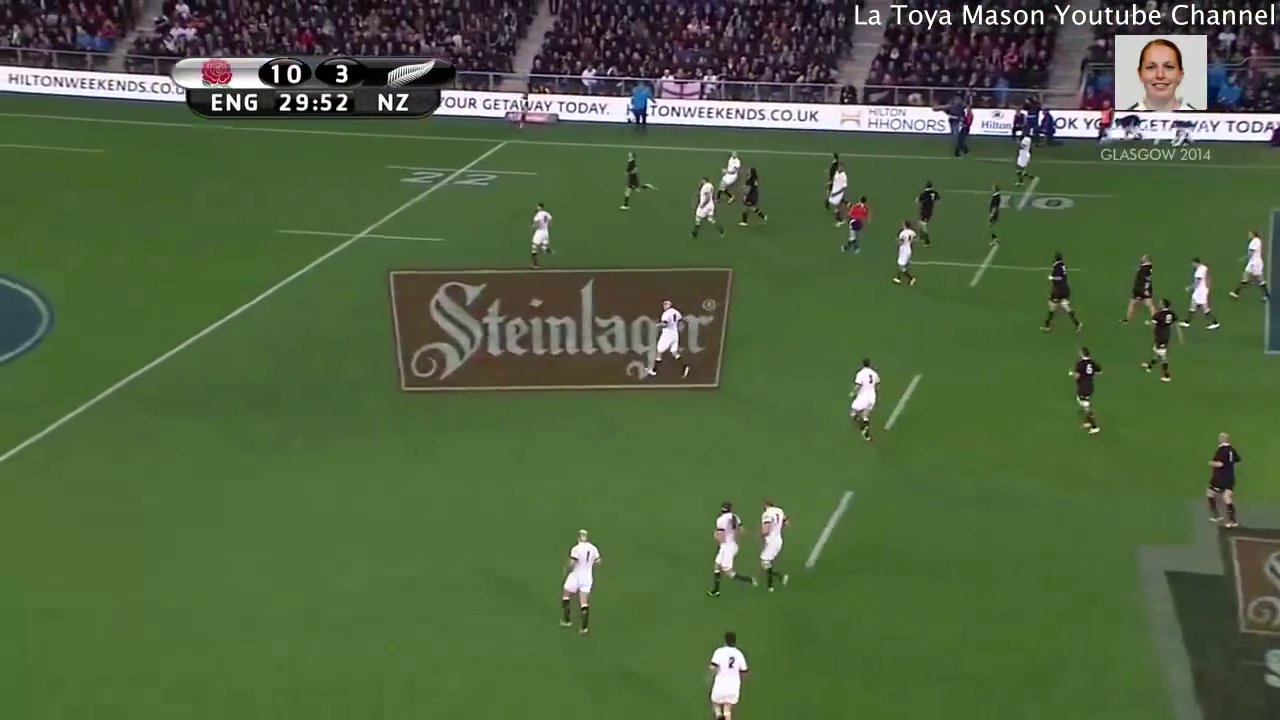10_metre: (894, 234, 1093, 298), (925, 173, 1123, 216)
player: (553, 520, 604, 644), (705, 496, 761, 606), (637, 288, 698, 386), (1196, 429, 1247, 534), (1169, 254, 1229, 342), (1061, 341, 1109, 449), (698, 626, 753, 720), (1033, 247, 1087, 342), (1222, 218, 1276, 312), (842, 353, 889, 457), (750, 488, 793, 600), (1131, 288, 1177, 385), (1114, 245, 1161, 328), (684, 168, 732, 244), (614, 148, 661, 220), (886, 212, 925, 292), (524, 195, 559, 276), (907, 174, 941, 253), (838, 189, 871, 260), (737, 158, 768, 233), (1009, 125, 1039, 195), (713, 144, 743, 213), (981, 178, 1008, 250), (827, 159, 853, 226), (818, 144, 841, 205)
